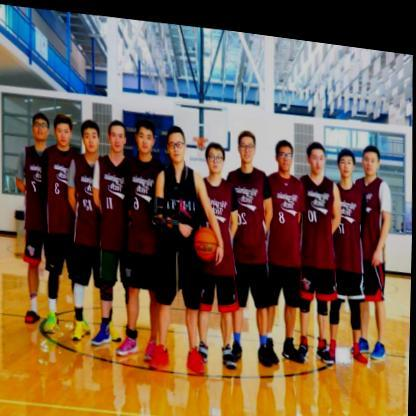basketball: (193, 219, 218, 255)
